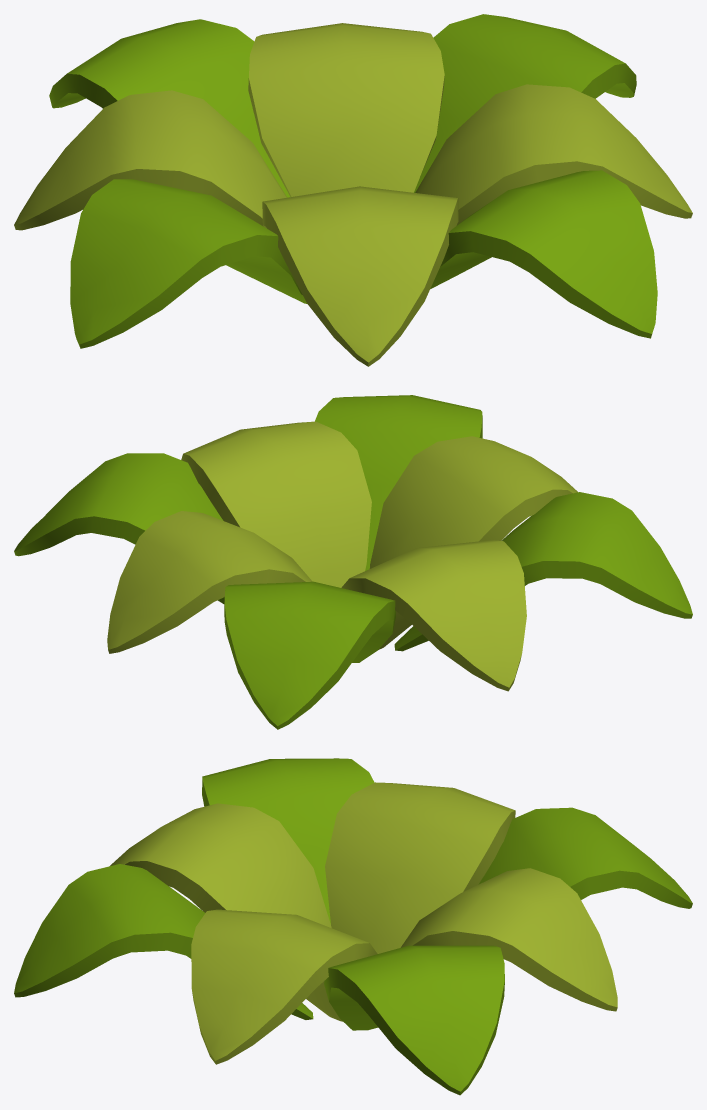
File: Plant_Large.001.fbx
3 renders of one model, top to bottom at view 1: azimuth 30°, elevation 25°; view 2: azimuth 150°, elevation 25°; view 3: azimuth 270°, elevation 25°, orthographic. The views are drawn at different scales.
Visible parts, largest first — view 1: Plant_Large.001; view 2: Plant_Large.001; view 3: Plant_Large.001.
Boxes of the visible parts, box(x1,y1,x2,y2) form: Plant_Large.001: box(14, 14, 692, 366); Plant_Large.001: box(14, 395, 692, 729); Plant_Large.001: box(14, 758, 692, 1095).
Size of the model in its own units: 190 by 45.79 by 190.
